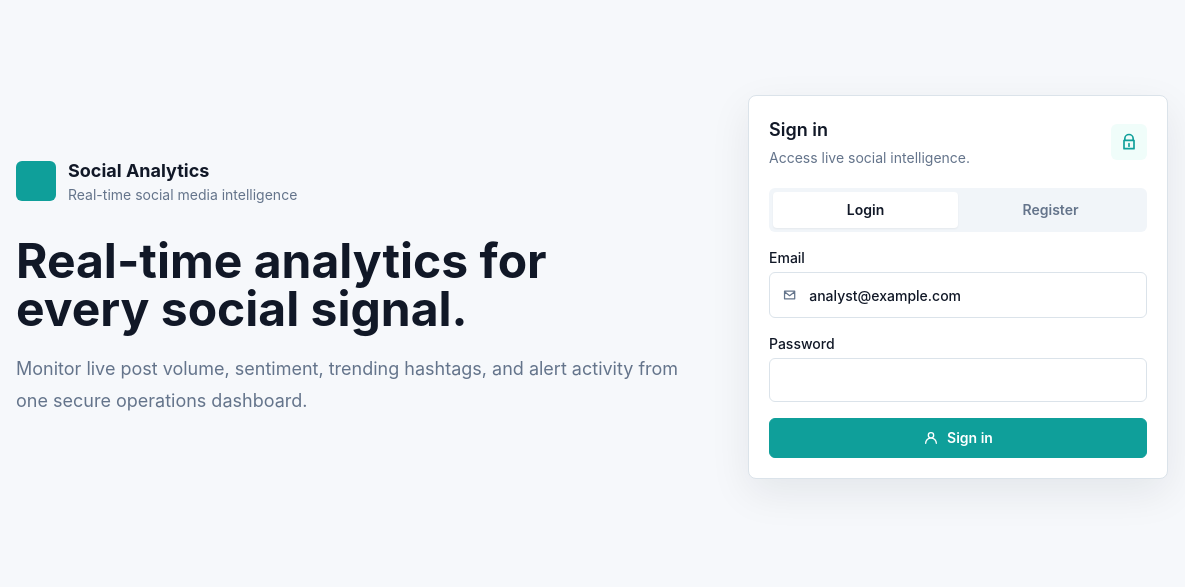
Test: App › shows backend validation messages during registration
The width and height of the screenshot is (1185, 587).
Click the button "Register".
click(1050, 210)  # box [958,192,1143,228]
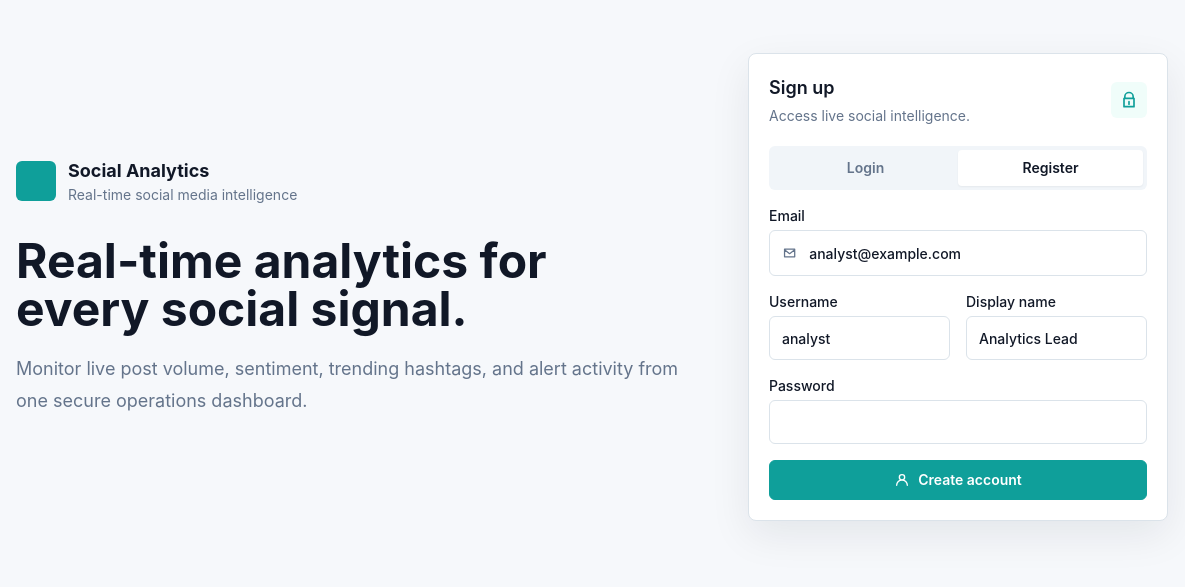
Click the button "Create account".
click(958, 480)  # box [769,460,1147,500]
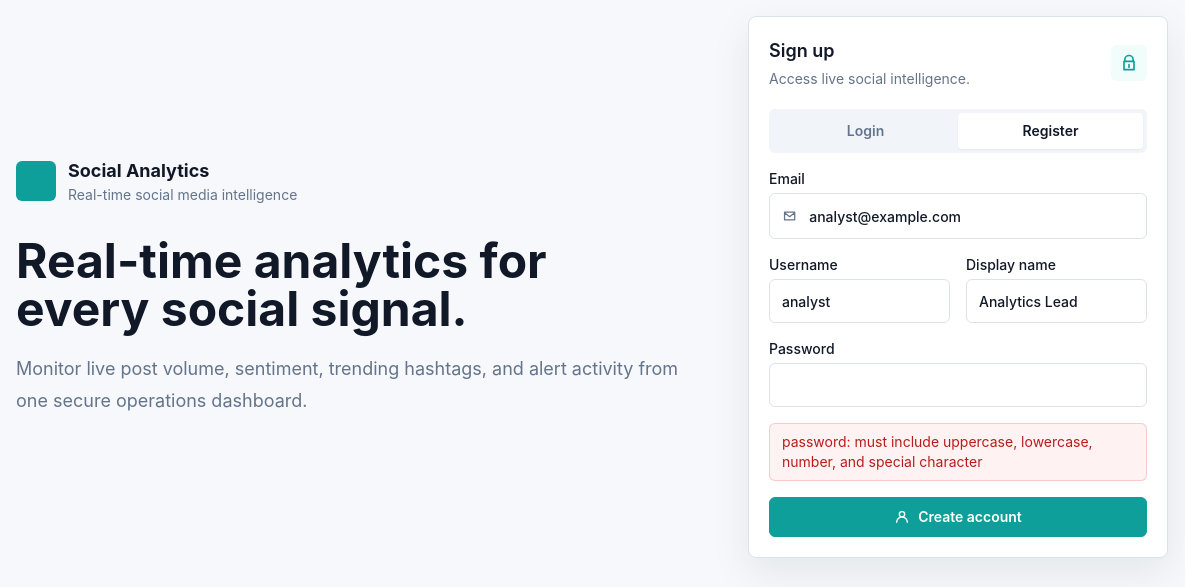
Check: the text "password: must include uppercase" is shown, box [782,433,1093,470]
